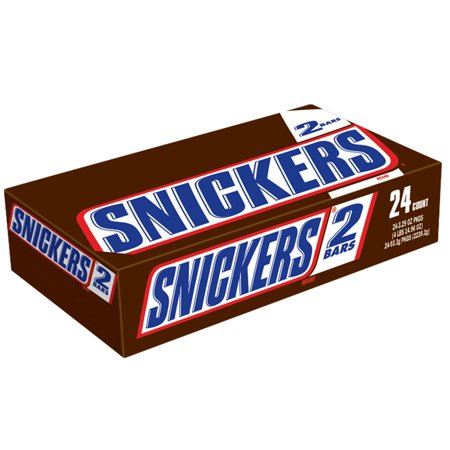snickers: (91, 127, 384, 257), (102, 127, 384, 257), (143, 214, 320, 326), (10, 204, 94, 284)
